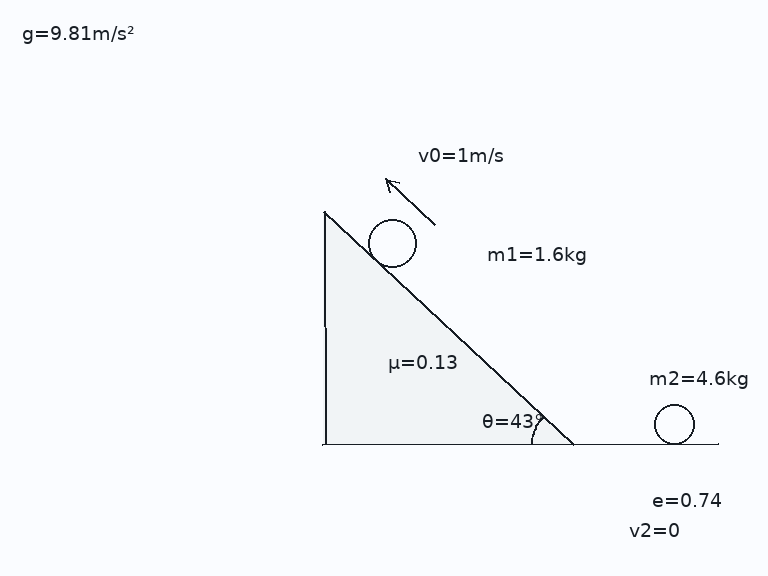ball: (366, 217, 418, 269), (652, 402, 696, 446)
ramp: (321, 210, 574, 446)
